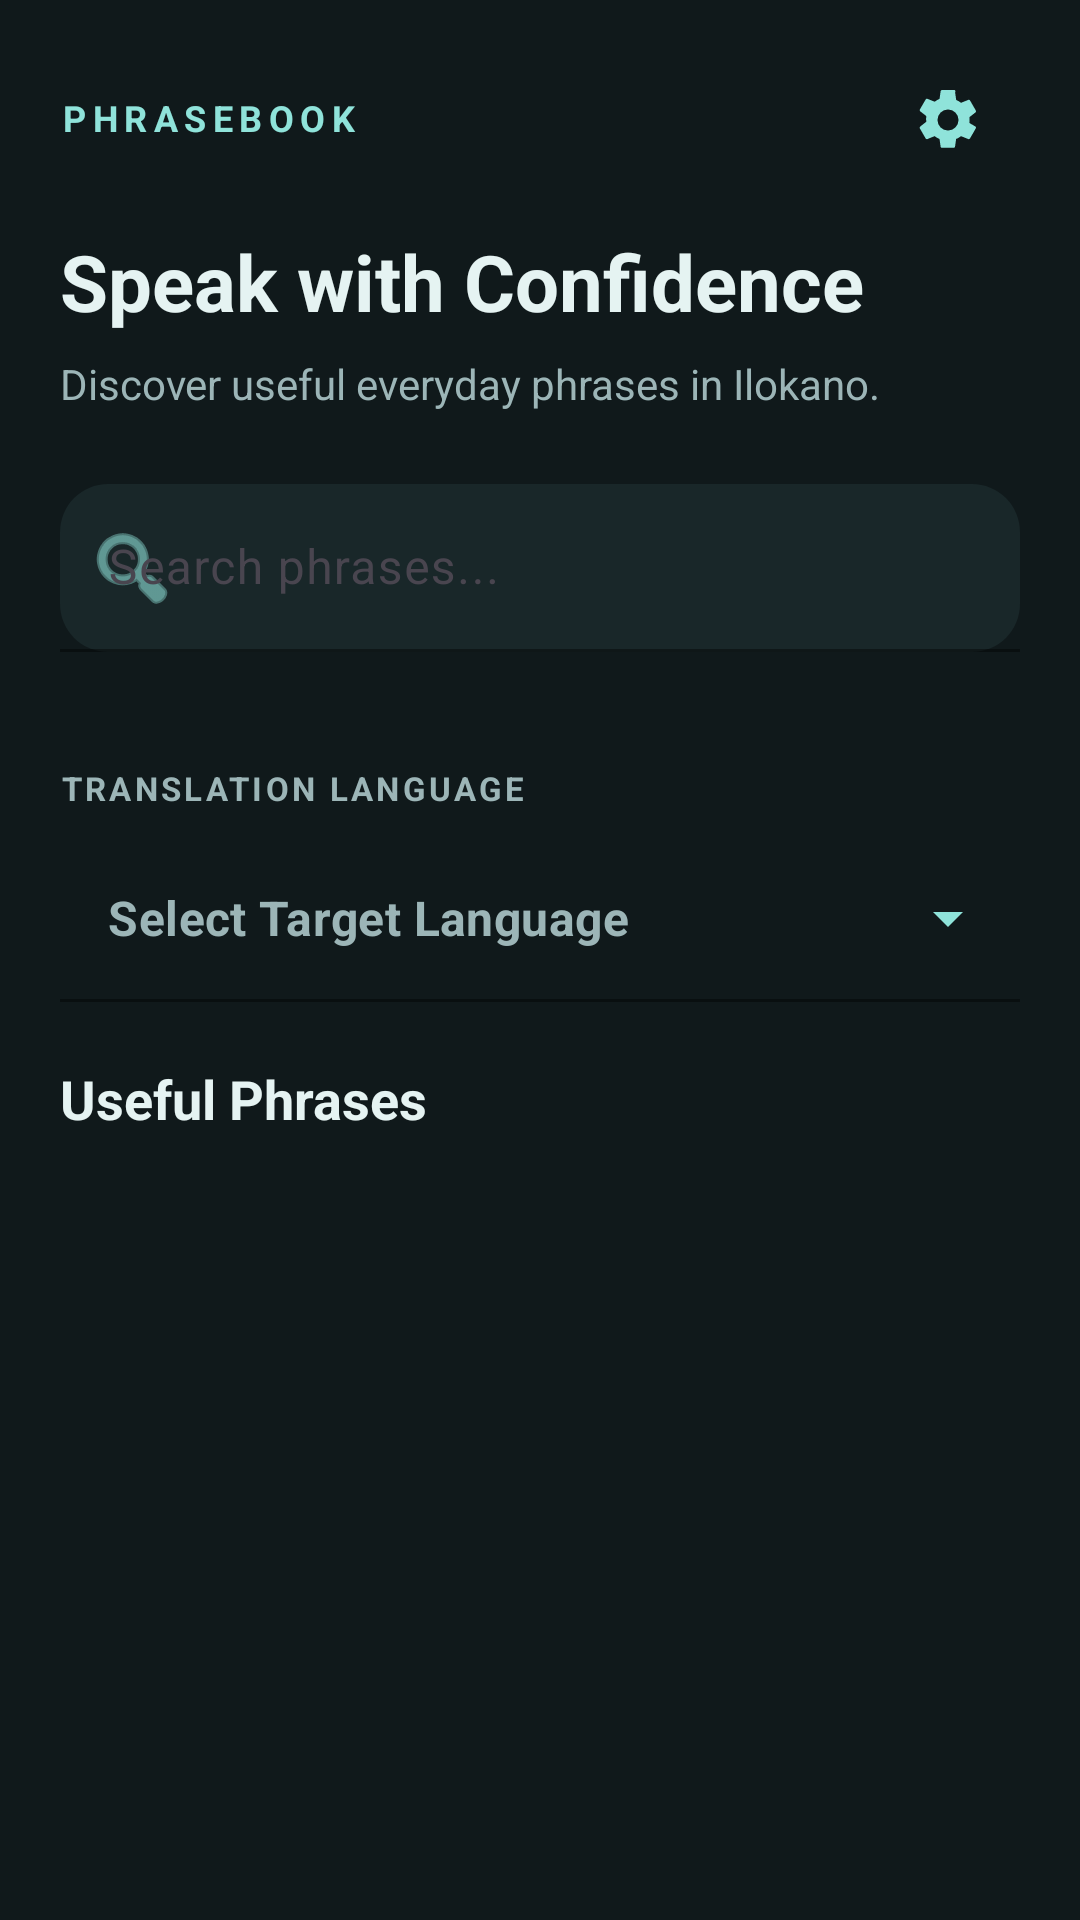

Where to tap for icons on this 1080 x 1920 app screen, as (x=x, y=y):
Open settings menu: (x=947, y=119)
